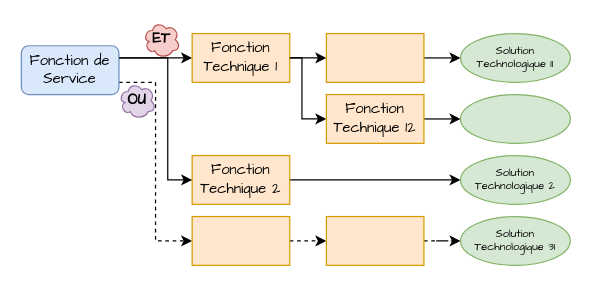
This 592x287 diagram has some shape labels left out. The shapes that lost their labels are listed below. From the top down, each one's centre as x and y in pixels, then its label:
At pixel 374 57: "Fonction Technique 11".
At pixel 514 118: "Solution Technologique 12".
At pixel 240 240: "Fonction Technique 3".
At pixel 374 240: "Fonction Technique 31".
